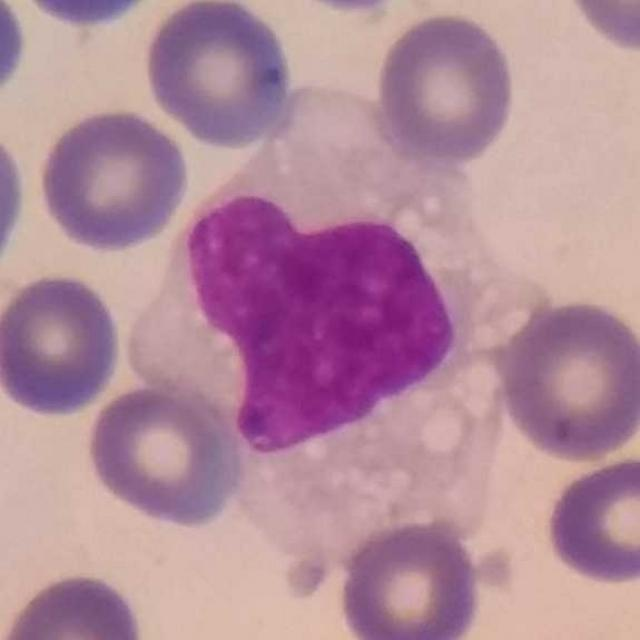mono: (132, 78, 546, 568)
